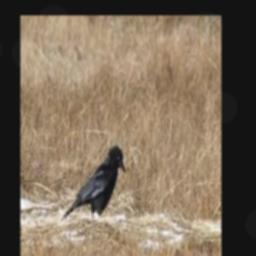Crow: (62, 143, 126, 221)
